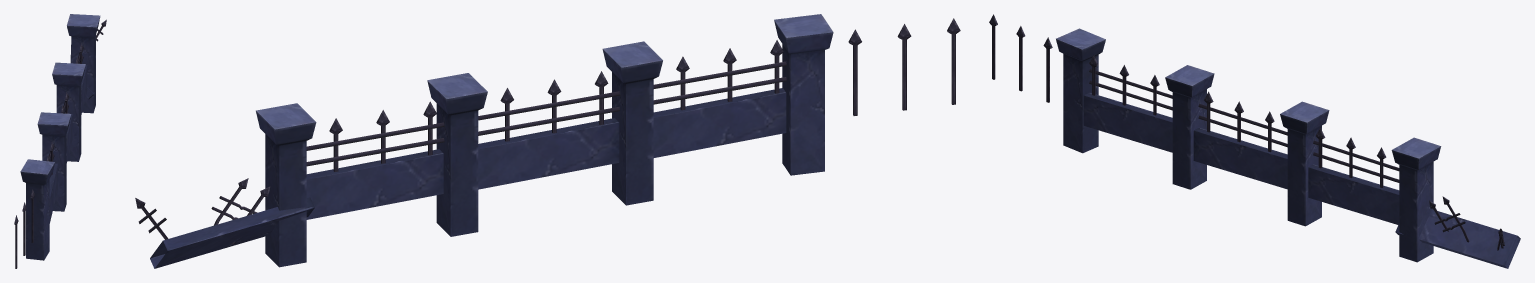
The model's file is Area09_17.fbx.
The picture shows the model from 3 angles, left to right: view 1: azimuth 30°, elevation 25°; view 2: azimuth 150°, elevation 25°; view 3: azimuth 270°, elevation 25°; orthographic projection. The views are drawn at different scales.
Parts seen in each view (by area): view 1: Area09_17; view 2: Area09_17; view 3: Area09_17.
Boxes of the visible parts, <box> form: Area09_17: <box>14,14,106,268</box>; Area09_17: <box>135,14,960,268</box>; Area09_17: <box>989,14,1520,268</box>.
Bounding box in the file's own units: 2228 × 618 × 2788.
